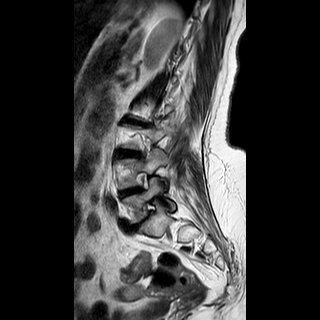LFS0: (131, 167, 159, 195)
